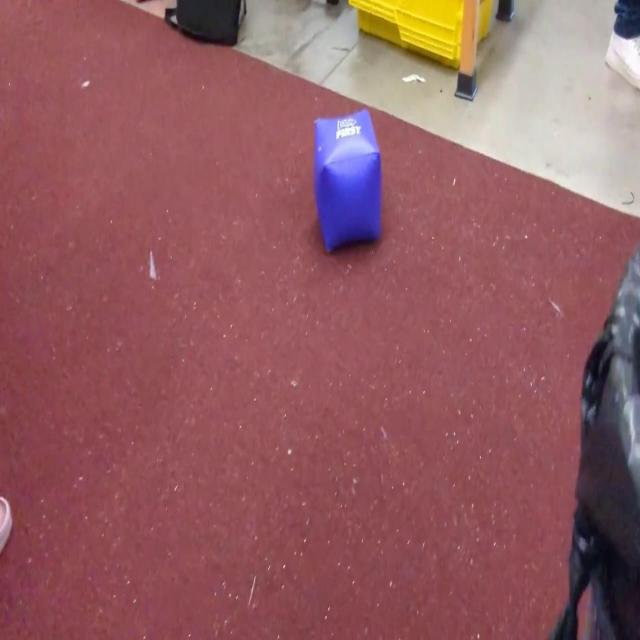frc_cube: (312, 103, 384, 256)
